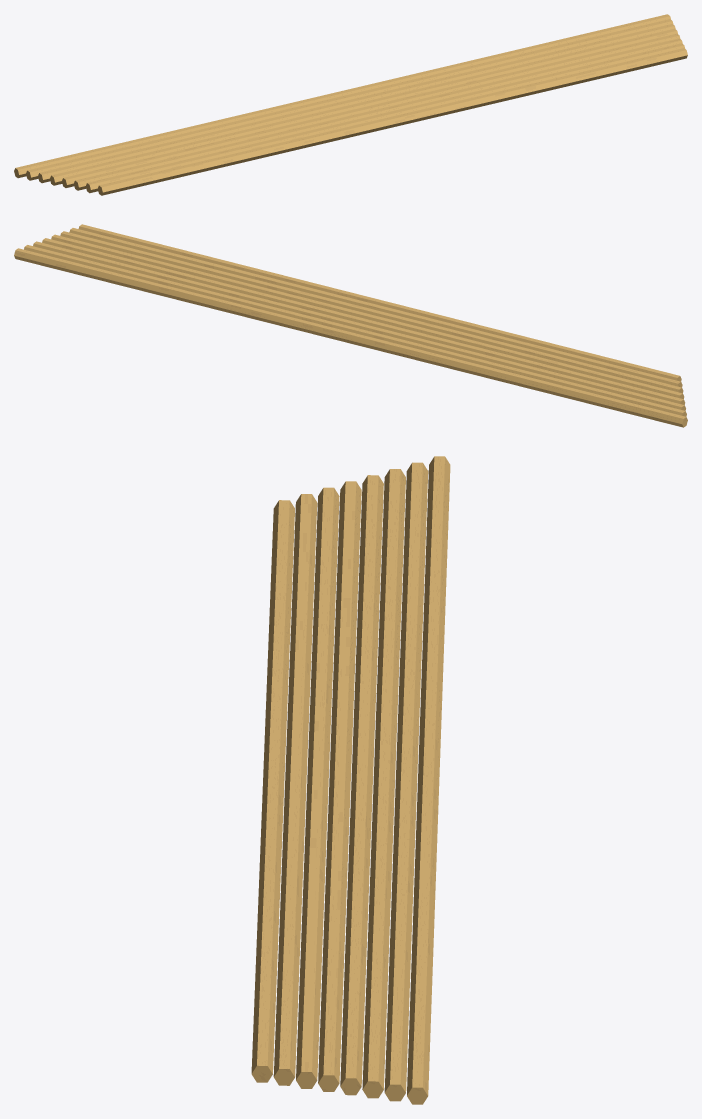
File: spaghetti_raw.glb
3 views of the same model, one above another, from view 1: azimuth 30°, elevation 25°; view 2: azimuth 150°, elevation 25°; view 3: azimuth 270°, elevation 25° (orthographic). The views are drawn at different scales.
Parts seen in each view (by area): view 1: block_dry strand 7, block_dry strand 0, block_dry strand 1, block_dry strand 2, block_dry strand 3, block_dry strand 4, block_dry strand 5, block_dry strand 6; view 2: block_dry strand 0, block_dry strand 1, block_dry strand 2, block_dry strand 3, block_dry strand 4, block_dry strand 5, block_dry strand 6, block_dry strand 7; view 3: block_dry strand 0, block_dry strand 1, block_dry strand 2, block_dry strand 3, block_dry strand 4, block_dry strand 5, block_dry strand 6, block_dry strand 7.
Part boxes in pixels (left/top/right/bottom): block_dry strand 7: left=97, top=48, right=687, bottom=195; block_dry strand 0: left=14, top=14, right=670, bottom=178; block_dry strand 1: left=26, top=19, right=673, bottom=180; block_dry strand 2: left=38, top=24, right=675, bottom=183; block_dry strand 3: left=50, top=28, right=677, bottom=185; block_dry strand 4: left=62, top=33, right=680, bottom=187; block_dry strand 5: left=73, top=38, right=682, bottom=190; block_dry strand 6: left=85, top=43, right=685, bottom=193; block_dry strand 0: left=14, top=248, right=687, bottom=427; block_dry strand 1: left=24, top=245, right=686, bottom=416; block_dry strand 2: left=33, top=241, right=685, bottom=410; block_dry strand 3: left=42, top=238, right=685, bottom=404; block_dry strand 4: left=51, top=234, right=684, bottom=398; block_dry strand 5: left=60, top=231, right=683, bottom=393; block_dry strand 6: left=69, top=228, right=682, bottom=387; block_dry strand 7: left=78, top=224, right=681, bottom=381; block_dry strand 0: left=407, top=456, right=450, bottom=1104; block_dry strand 1: left=384, top=462, right=428, bottom=1101; block_dry strand 2: left=362, top=469, right=405, bottom=1098; block_dry strand 3: left=340, top=475, right=383, bottom=1095; block_dry strand 4: left=318, top=481, right=361, bottom=1091; block_dry strand 5: left=296, top=487, right=339, bottom=1088; block_dry strand 6: left=273, top=494, right=317, bottom=1085; block_dry strand 7: left=251, top=500, right=294, bottom=1082.
Size of the model in its own units: 0.202 by 0.00251 by 0.0269.
1 material, 1 textured.
